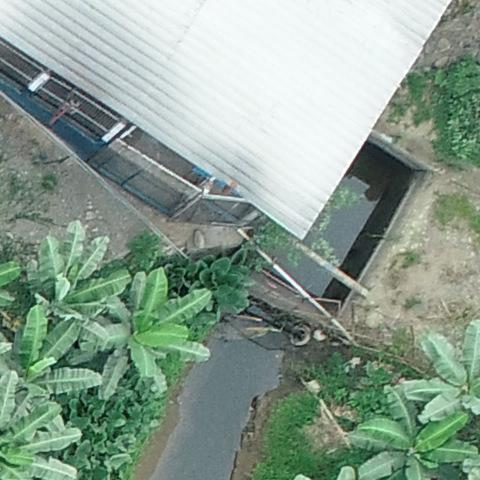Banana-plant: (89, 271, 215, 395), (19, 221, 136, 332), (347, 392, 478, 478), (399, 307, 480, 422)
